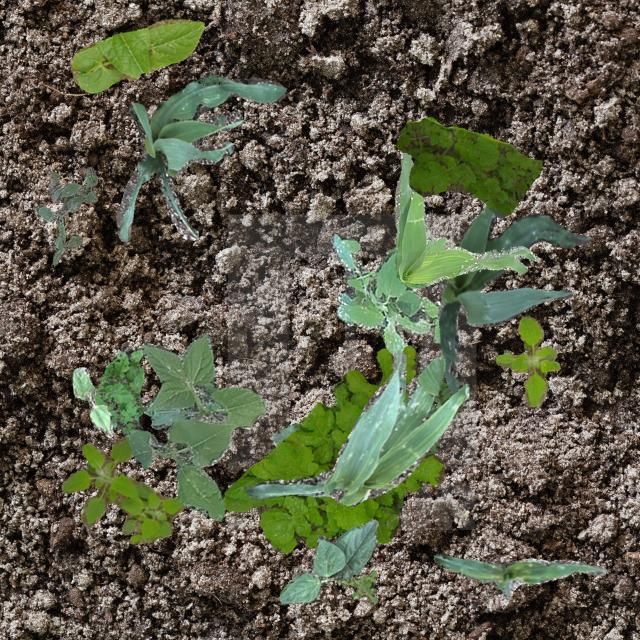crop: (245, 346, 468, 504), (436, 204, 590, 394), (116, 74, 286, 240), (70, 18, 204, 92), (278, 518, 378, 602), (432, 552, 606, 598), (70, 366, 112, 436), (272, 422, 300, 446)
weed: (223, 343, 442, 552), (127, 332, 266, 520), (394, 150, 536, 288), (396, 116, 540, 217), (330, 232, 440, 356), (60, 437, 184, 542), (34, 166, 96, 266), (494, 314, 560, 406), (92, 344, 142, 438), (425, 376, 461, 454), (338, 570, 376, 604)
